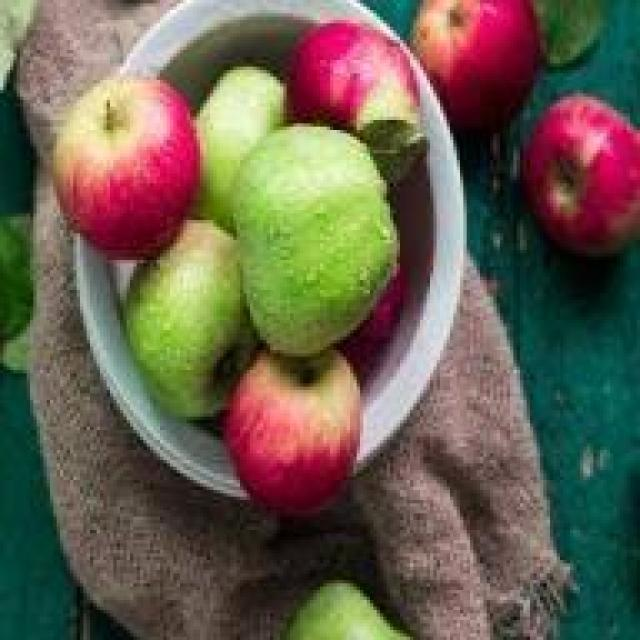apple: (230, 136, 393, 356), (46, 80, 186, 263), (116, 220, 256, 403), (237, 340, 360, 500), (290, 13, 427, 150), (520, 90, 630, 240), (187, 60, 283, 220), (413, 7, 530, 133)
